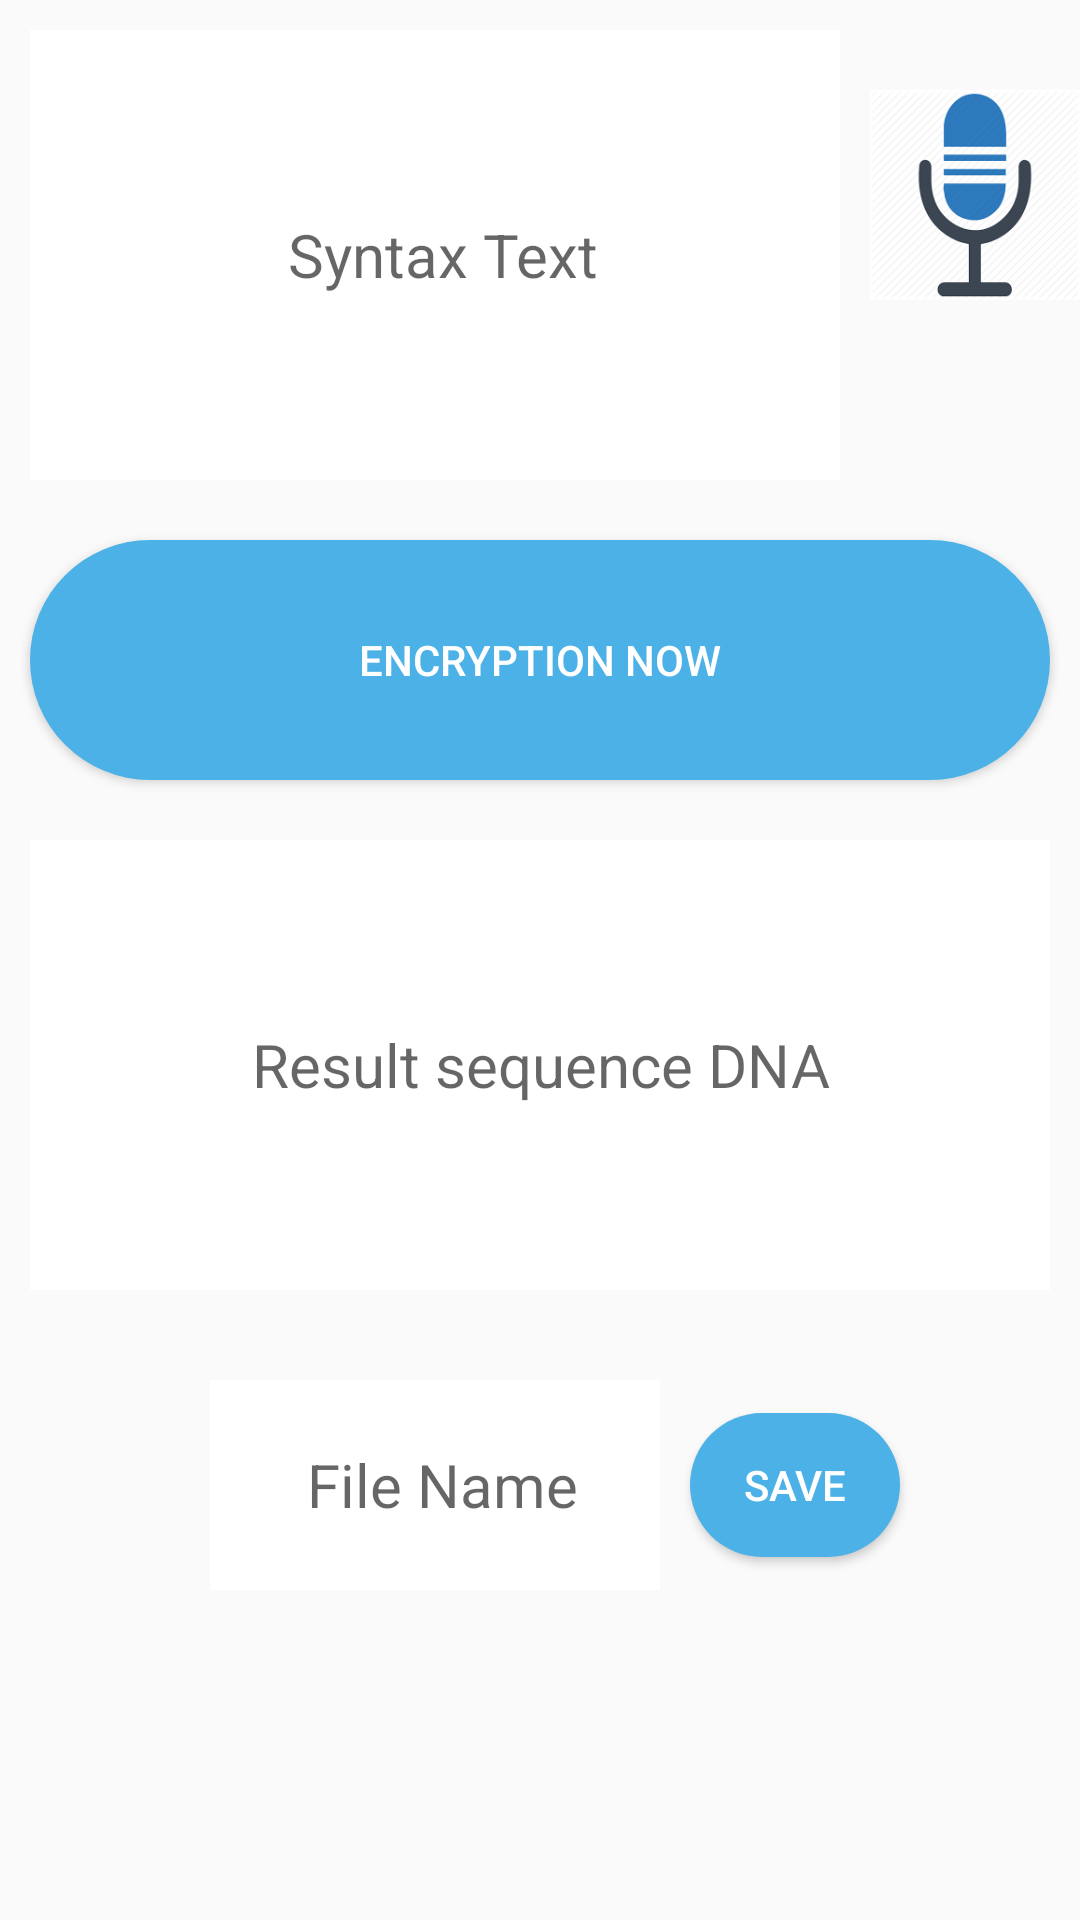

Where to tap for icons on this 1080px×1920px app screen, as (x,y):
microphone: (975,195)
